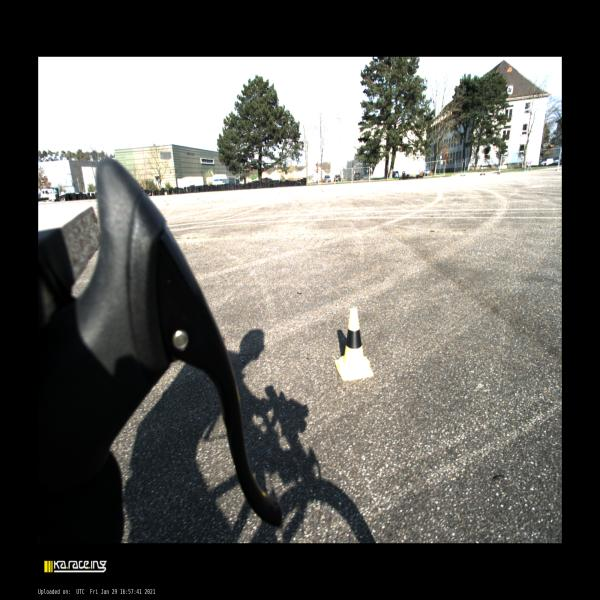yellow_cone: (334, 308, 373, 381)
